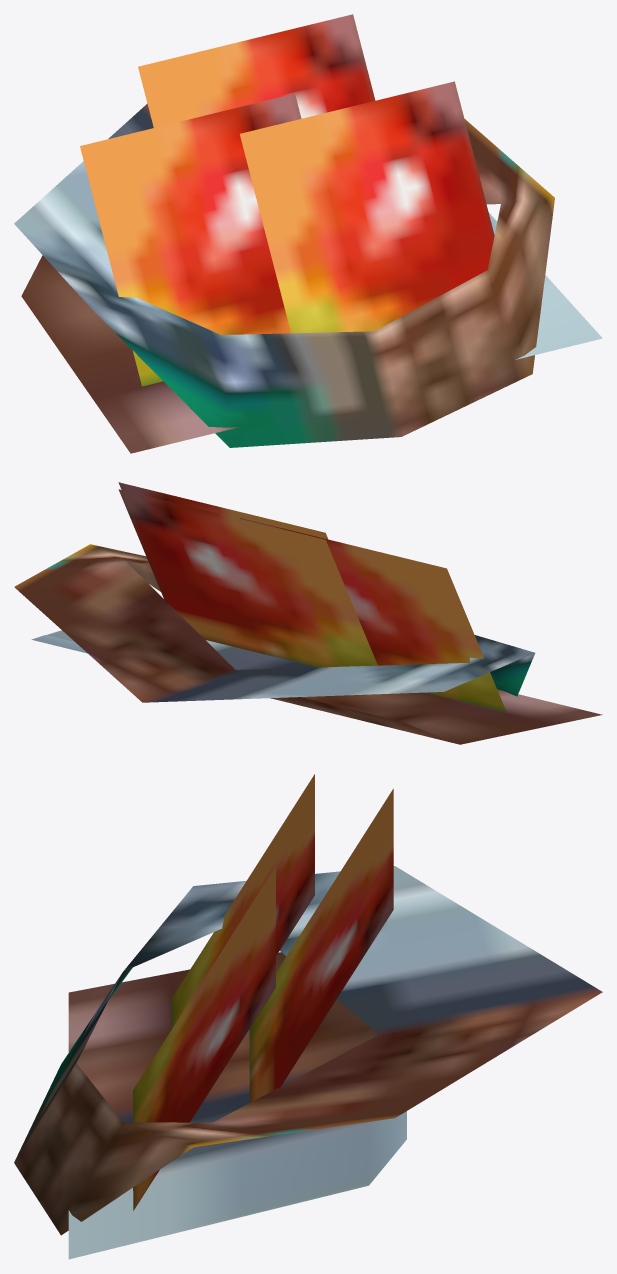
The model's file is fg_mango_pile_out.dae.
3 views of the same model, one above another, from view 1: azimuth 30°, elevation 25°; view 2: azimuth 150°, elevation 25°; view 3: azimuth 270°, elevation 25° (orthographic). The views are drawn at different scales.
Parts seen in each view (by area): view 1: fg_mango_pile_out; view 2: fg_mango_pile_out; view 3: fg_mango_pile_out.
Boxes of the visible parts, bbox=[...] form: fg_mango_pile_out: bbox=[14, 14, 602, 453]; fg_mango_pile_out: bbox=[14, 482, 602, 744]; fg_mango_pile_out: bbox=[14, 774, 602, 1259].
Size of the model in its own units: 24.45 by 13.42 by 22.51.
Materials: 1 (1 with a texture image).
